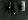person: (6, 4, 11, 17), (19, 2, 25, 12)
